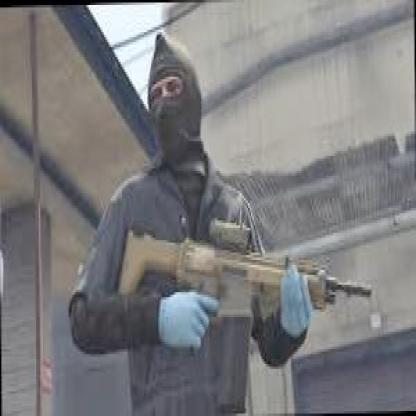rifle: (118, 210, 378, 337)
